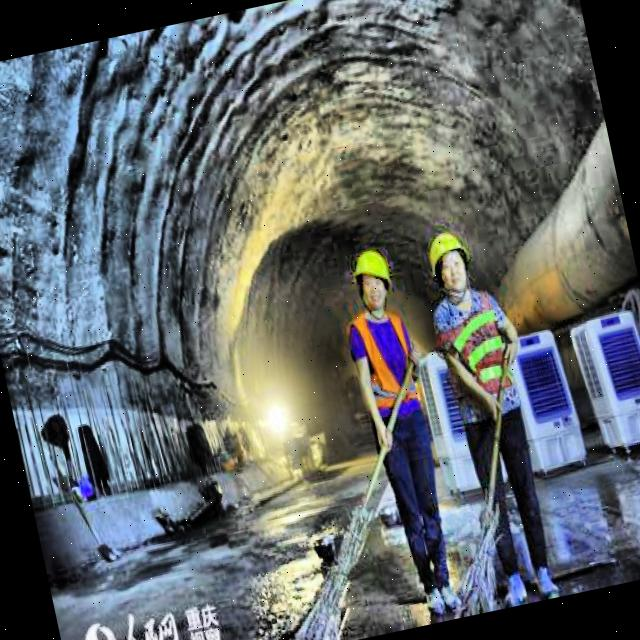helmet: (418, 218, 479, 304), (346, 239, 401, 317)
